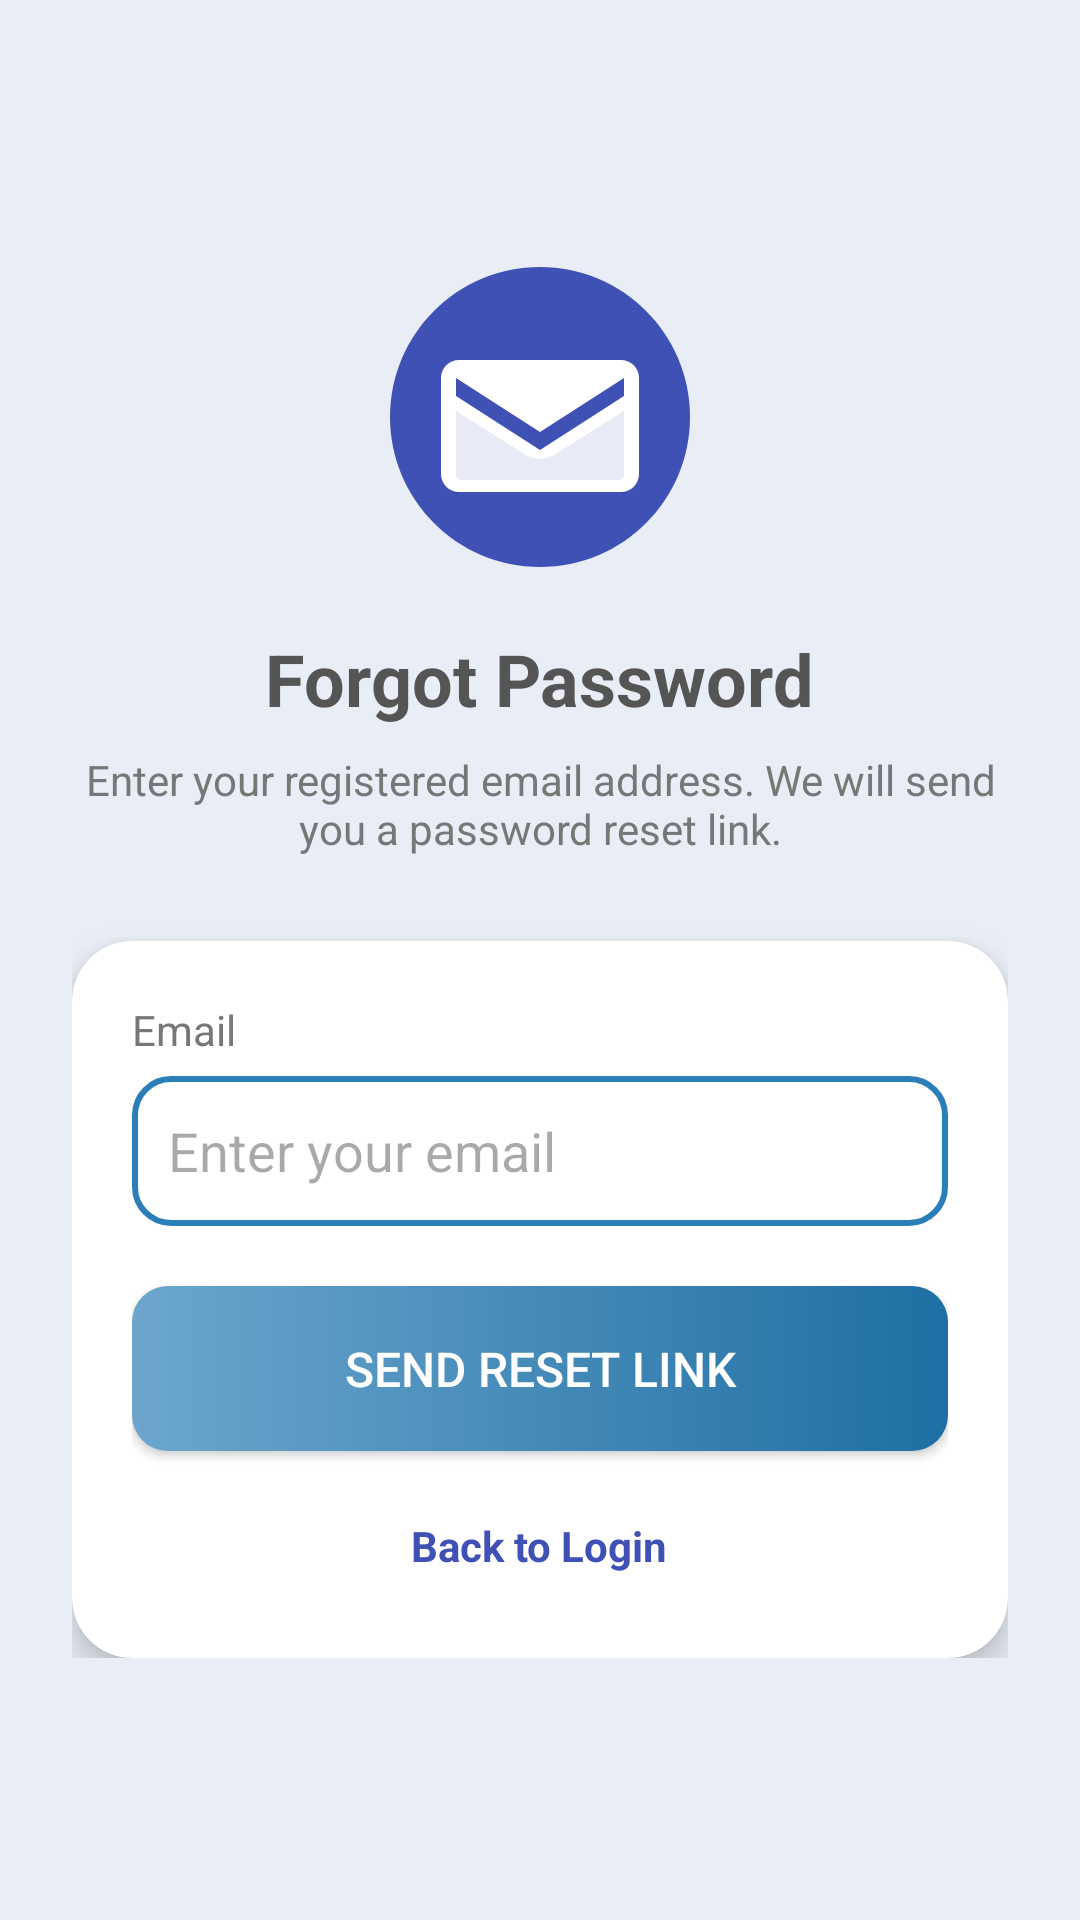

Icons on this 1080px×1920px Android screen, each with its box as (x1, y1, x2, y2):
Mail icon: (390, 267, 690, 567)
